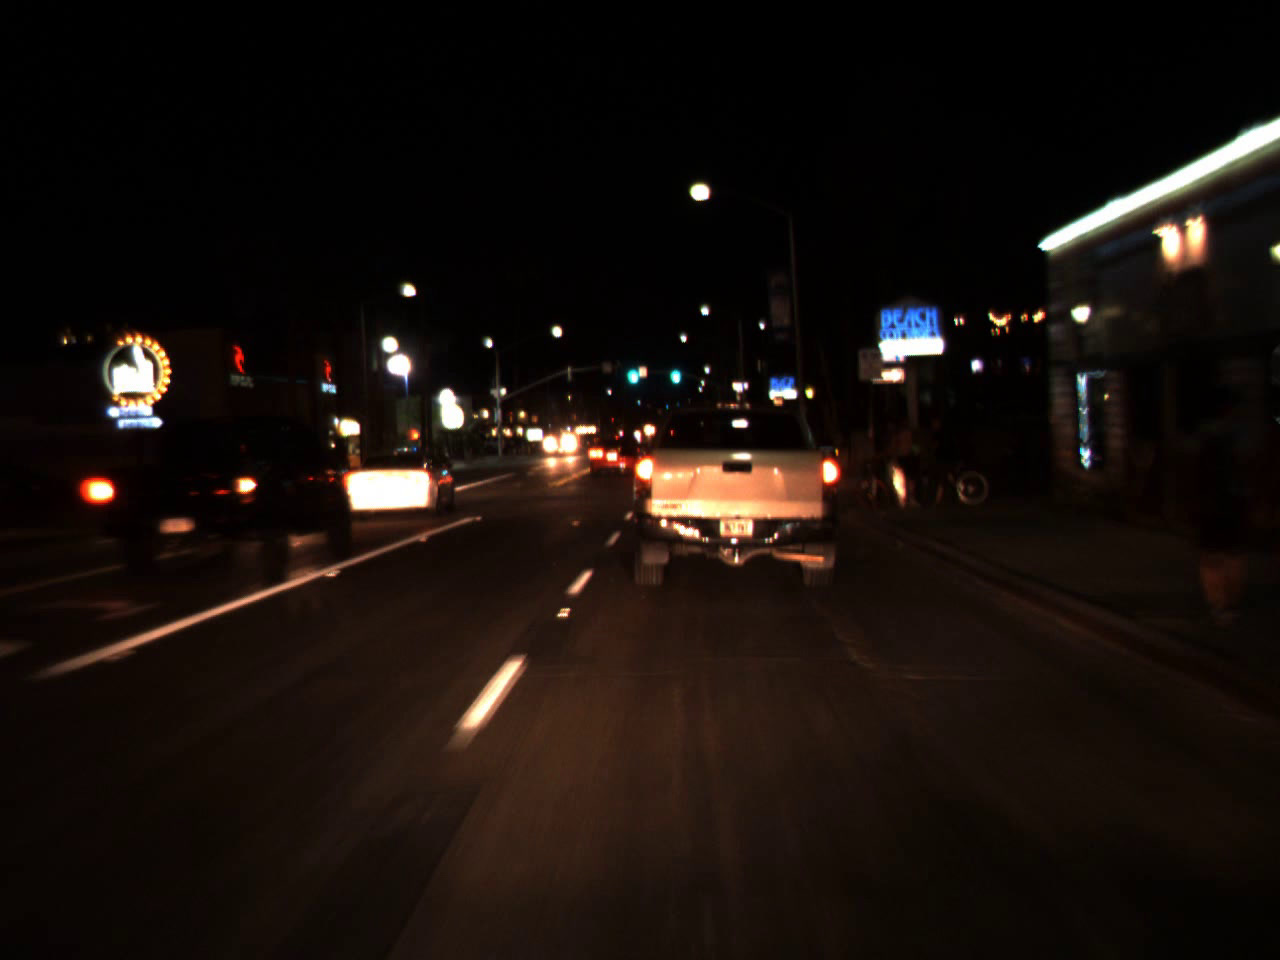go: (622, 350, 641, 389), (668, 356, 682, 386)
